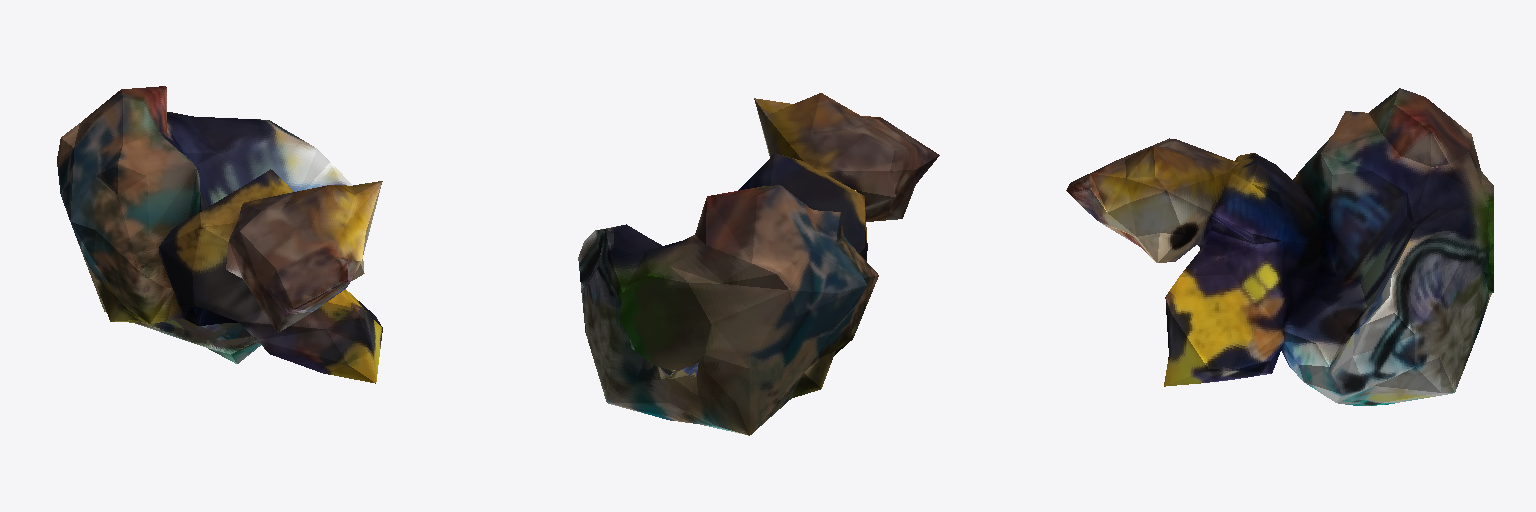
3 renders of one model, left to right at view 1: azimuth 30°, elevation 25°; view 2: azimuth 150°, elevation 25°; view 3: azimuth 270°, elevation 25°, orthographic.
Size of the model in its own units: 272 by 242 by 354.
1 materials, 1 textured.